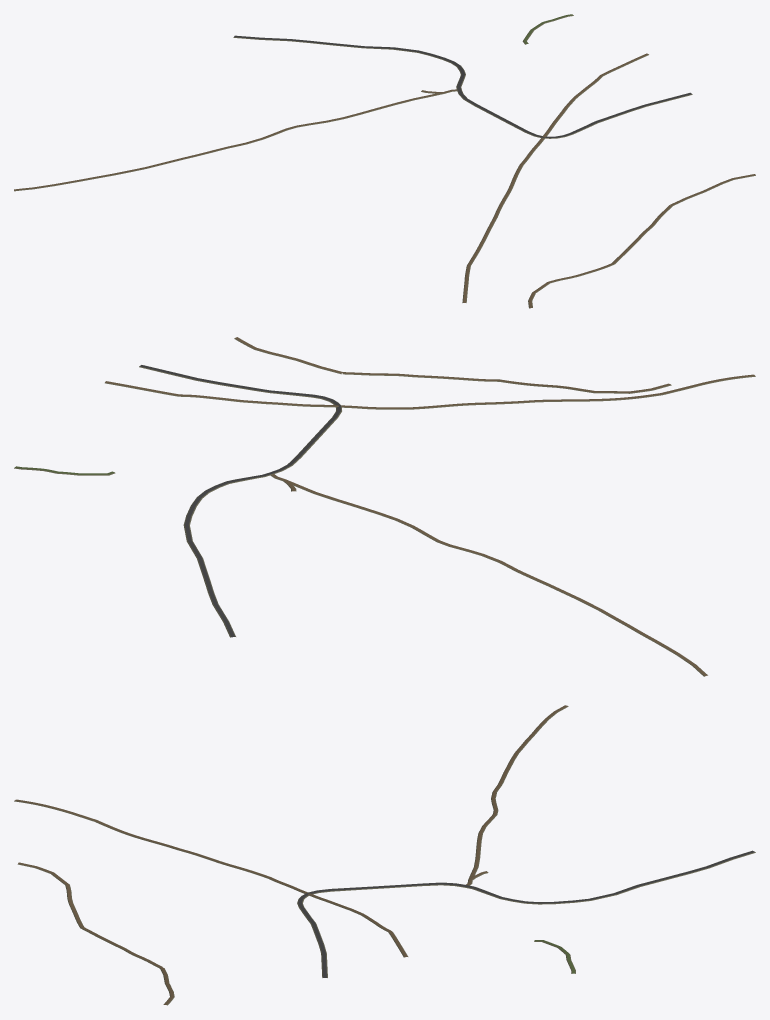
3 renders of one model, top to bottom at view 1: azimuth 30°, elevation 25°; view 2: azimuth 150°, elevation 25°; view 3: azimuth 270°, elevation 25°, orthographic. The views are drawn at different scales.
Visible parts, largest first — view 1: roads; view 2: roads; view 3: roads.
Boxes of the visible parts, x1,y1,x2,y2 form: roads: [14, 14, 755, 308]; roads: [14, 337, 755, 676]; roads: [14, 705, 755, 1005].
Size of the model in its own units: 806 by 82.64 by 807.
